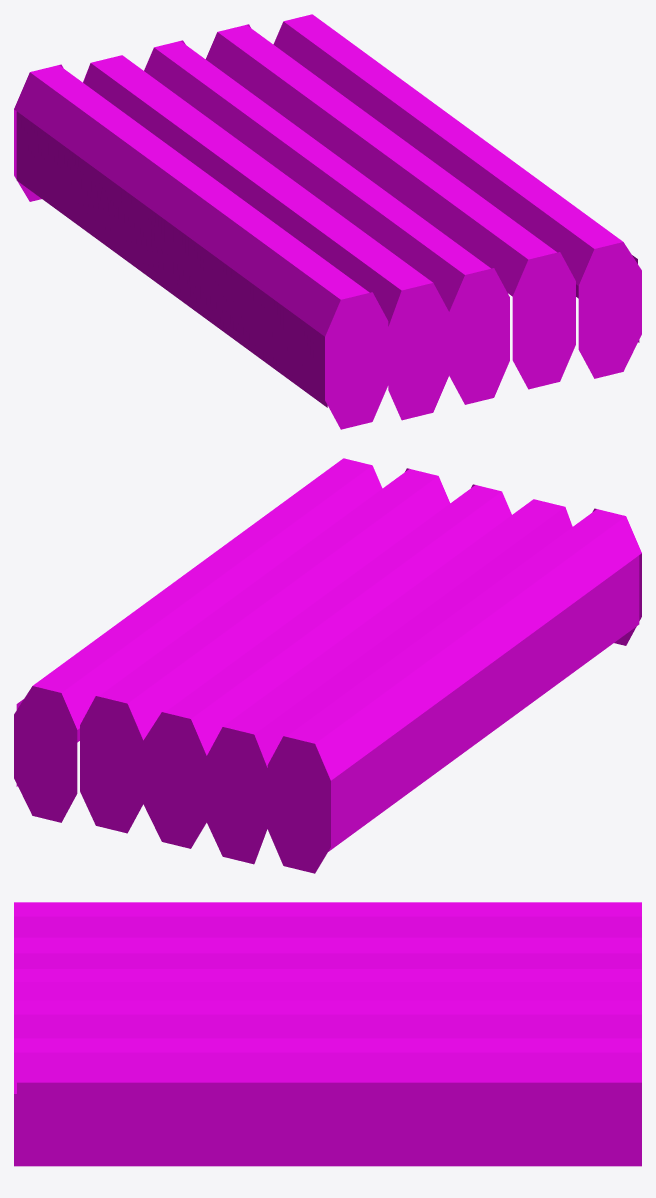
File: lograft.obj
3 views of the same model, one above another, from view 1: azimuth 30°, elevation 25°; view 2: azimuth 150°, elevation 25°; view 3: azimuth 270°, elevation 25° (orthographic).
Visible parts, largest first — view 1: lograft_back; view 2: lograft_back; view 3: lograft_back.
Part boxes in pixels (x1,y1,x2,y2): lograft_back: (14, 14, 641, 429); lograft_back: (14, 458, 641, 873); lograft_back: (14, 902, 641, 1166).
Bounding box in the file's own units: 1.2 × 0.51 × 2.04.
